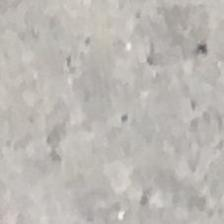Non_Crack: (36, 18, 224, 174)
